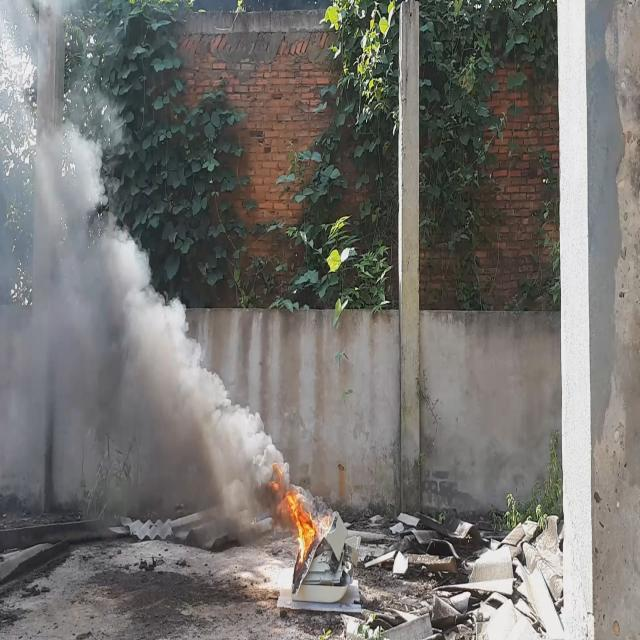Fire: (268, 464, 318, 574)
Smoke: (0, 0, 290, 527)
